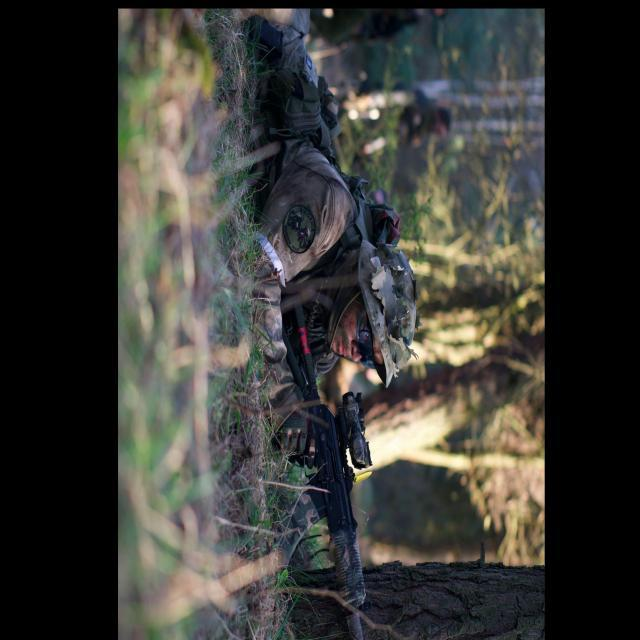weapon: (280, 291, 372, 640)
